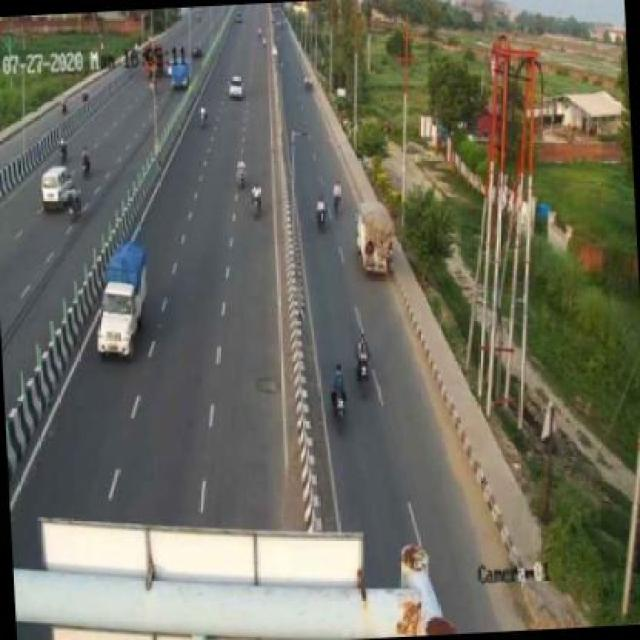car: (89, 237, 162, 357), (38, 162, 74, 212), (228, 72, 246, 100)
